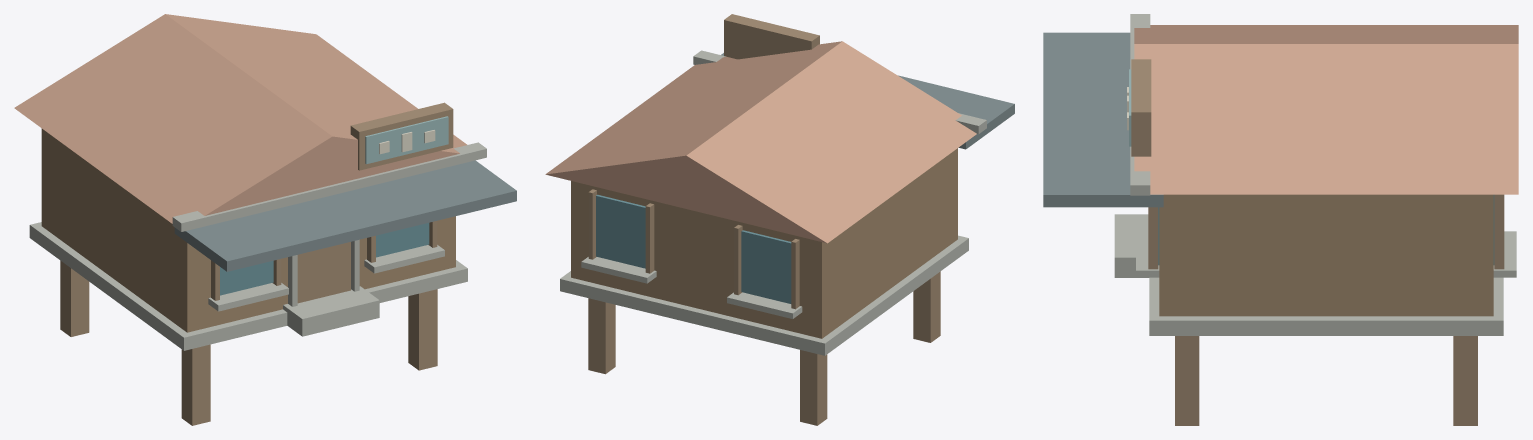
The model's file is stilt-0.glb.
3 views of the same model, side by side, from view 1: azimuth 30°, elevation 25°; view 2: azimuth 150°, elevation 25°; view 3: azimuth 270°, elevation 25° (orthographic). The views are drawn at different scales.
Bounding box in the file's own units: 3.64 × 3.1 × 4.26.
